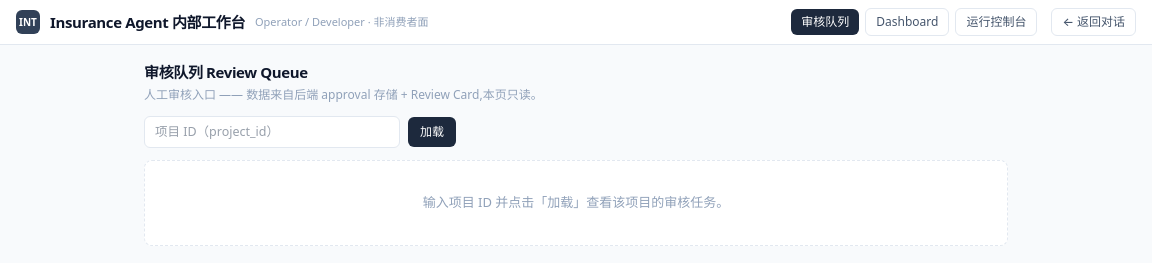
Test case: App three-space shell (28.E-1) › internal nav buttons switch within the internal space
This screenshot has width=1152, height=263.
Expected: the field with test id "project-input" is shown, [144, 116, 400, 148]
Click the button with test id "nav-internal-dashboard": (907, 22) [865, 8, 949, 36]
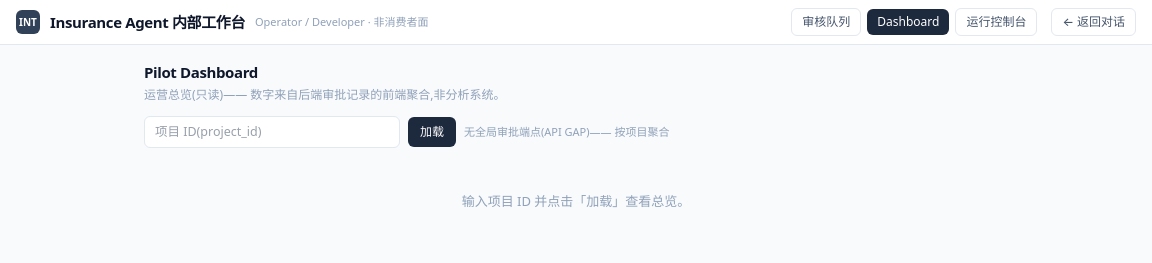
Expected: the field with test id "dash-project-input" is shown, [144, 116, 400, 148]
